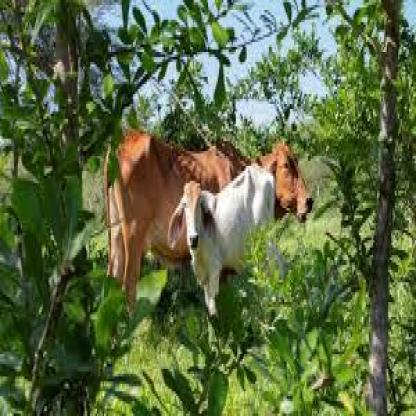cow: (104, 133, 313, 318), (167, 165, 275, 318)
